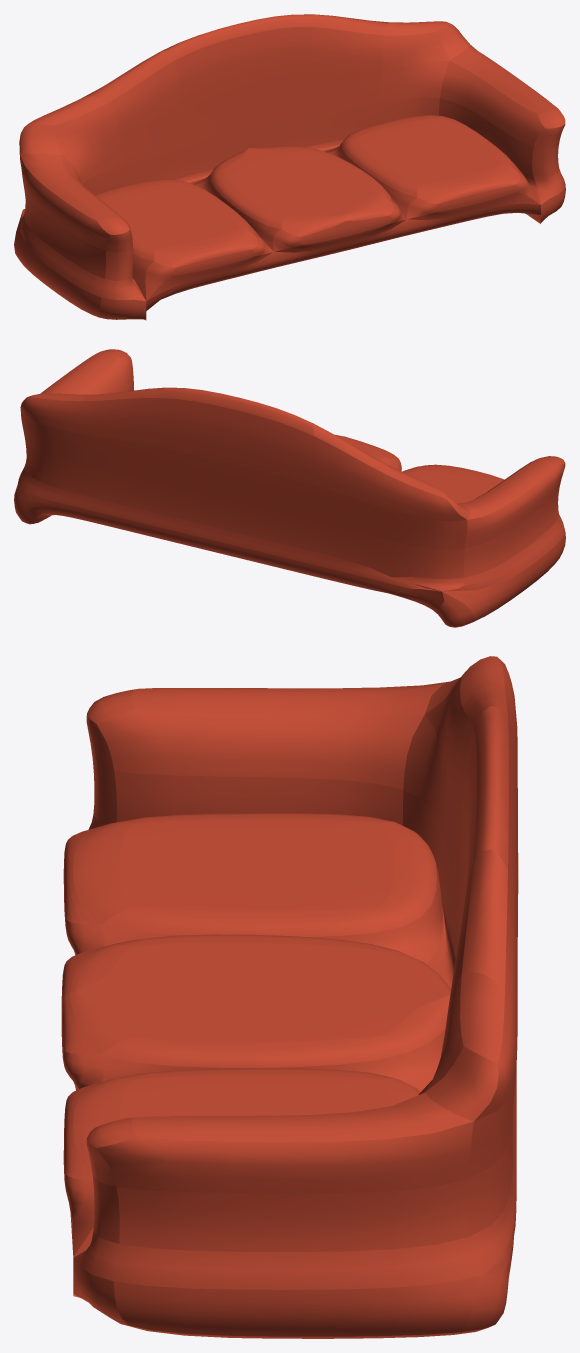
The model's file is Sofa.fbx.
3 renders of one model, top to bottom at view 1: azimuth 30°, elevation 25°; view 2: azimuth 150°, elevation 25°; view 3: azimuth 270°, elevation 25°, orthographic. The views are drawn at different scales.
Visible parts, largest first — view 1: Cube.007; view 2: Cube.007; view 3: Cube.007.
Boxes of the visible parts, x1,y1,x2,y2 form: Cube.007: [14, 14, 565, 320]; Cube.007: [14, 349, 565, 627]; Cube.007: [61, 656, 518, 1338].
Bounding box in the file's own units: 573 × 205 × 235.
